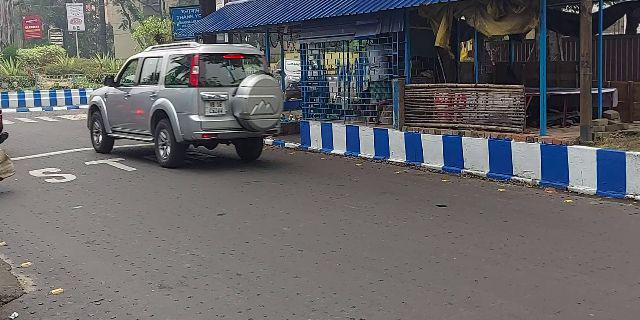Car: (83, 35, 285, 168)
